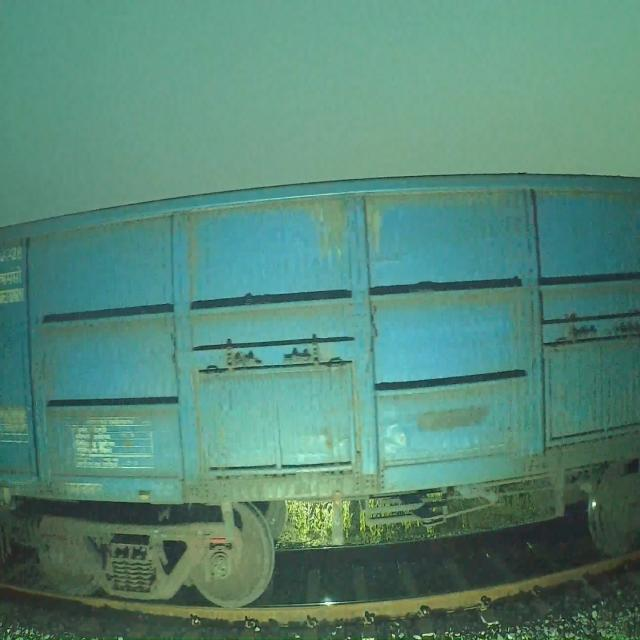WAgon-uic: (0, 174, 638, 608)
